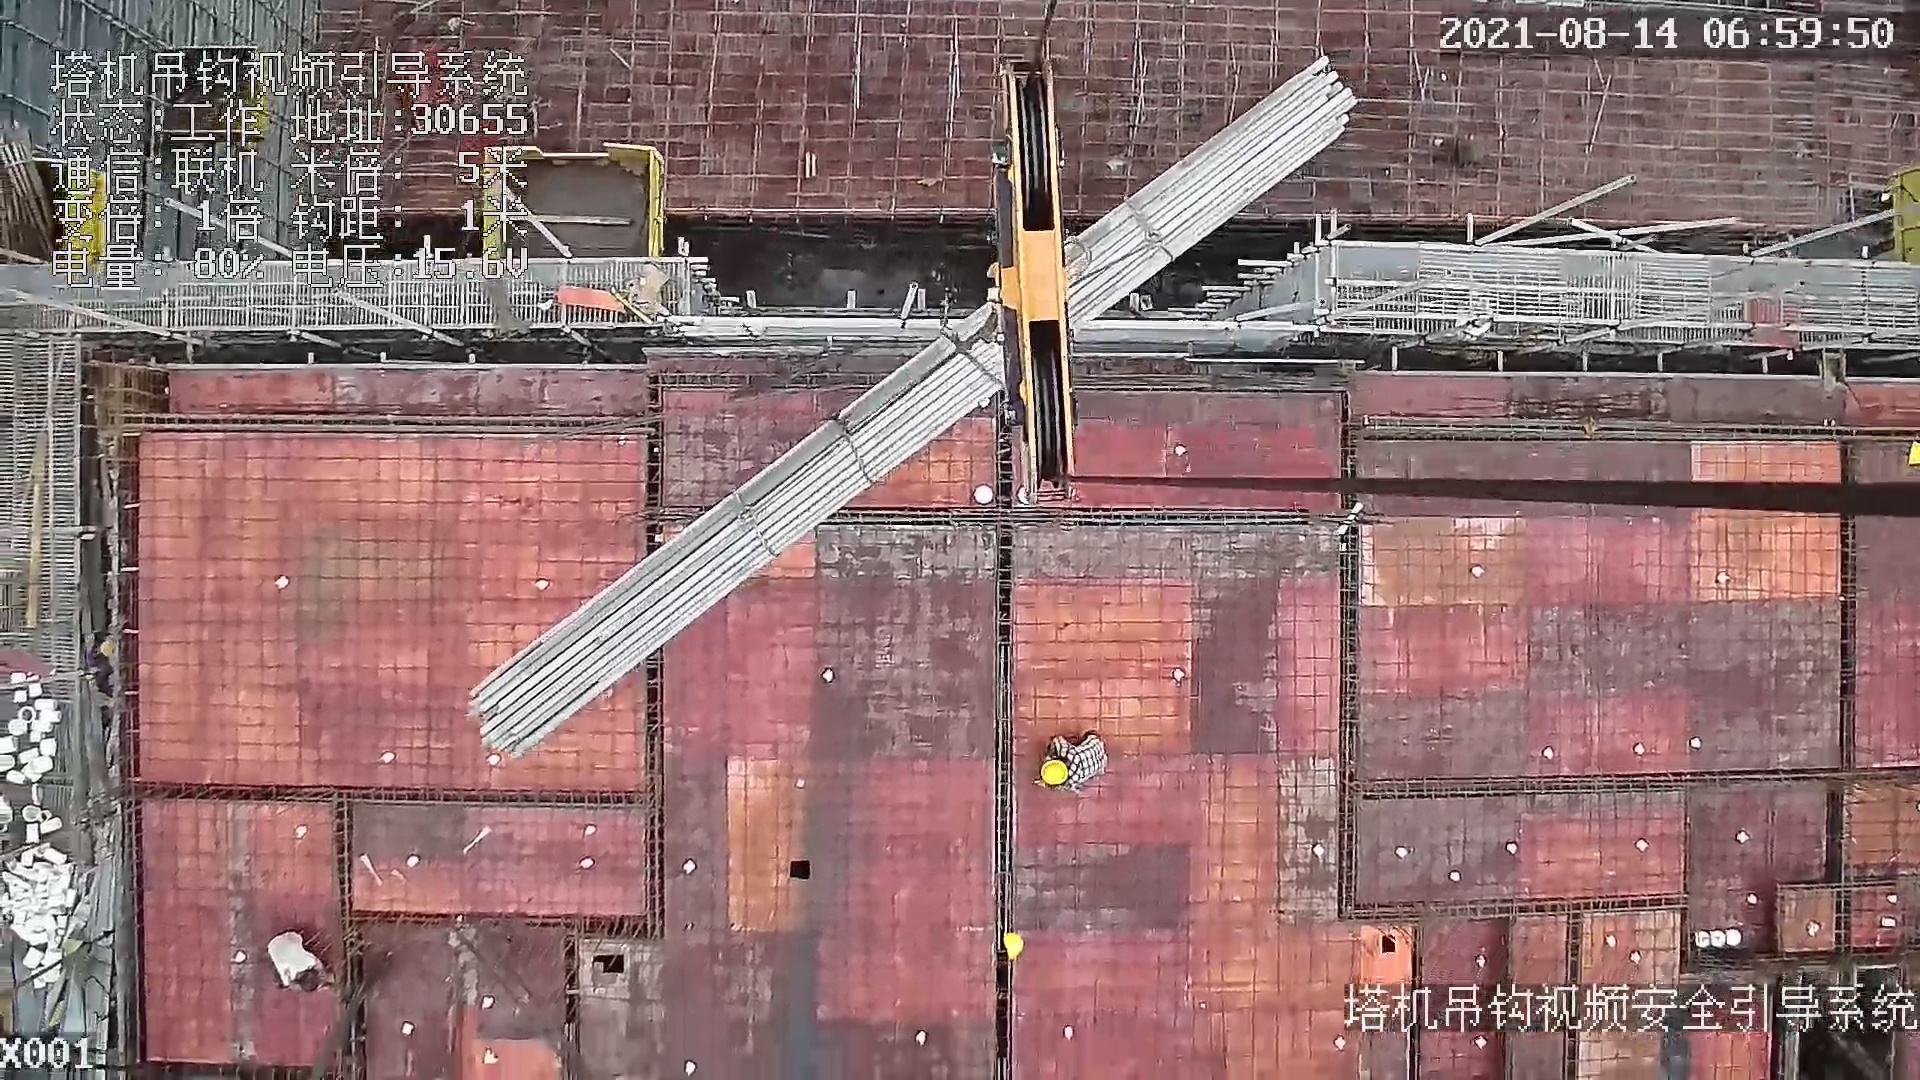helmet: (1040, 759, 1068, 785), (1003, 932, 1025, 959), (1907, 440, 1920, 467)
hook: (973, 56, 1101, 517)
person: (1036, 727, 1109, 797), (266, 929, 332, 994)
rebar: (461, 62, 1354, 762)
scaffold: (1, 130, 54, 256)
